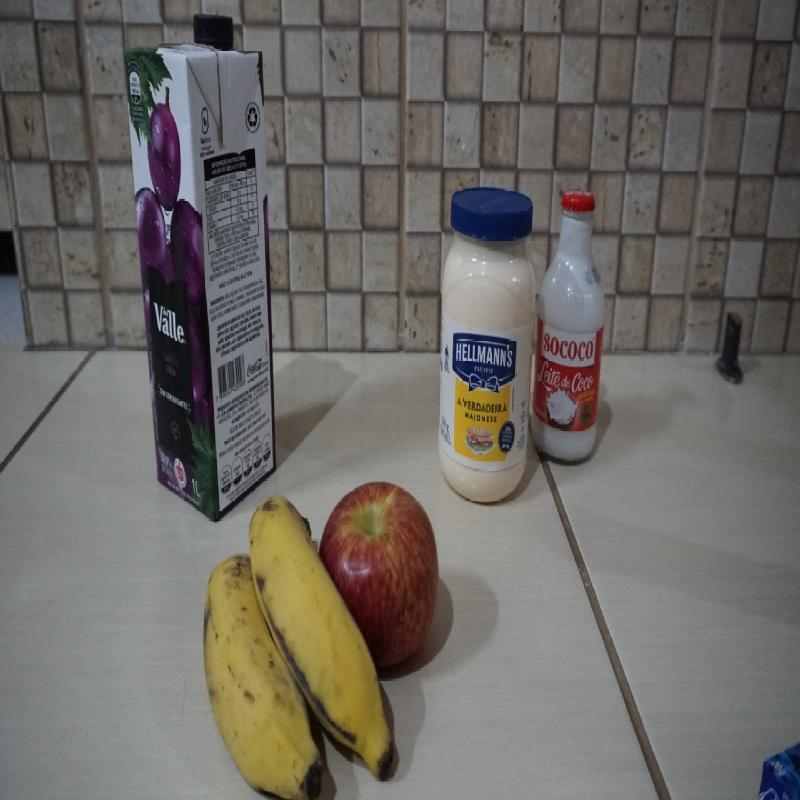Apple: (316, 482, 438, 668)
Banana: (204, 496, 393, 792)
Coconut Milk: (532, 189, 602, 464)
Mayonnaise: (440, 189, 537, 500)
